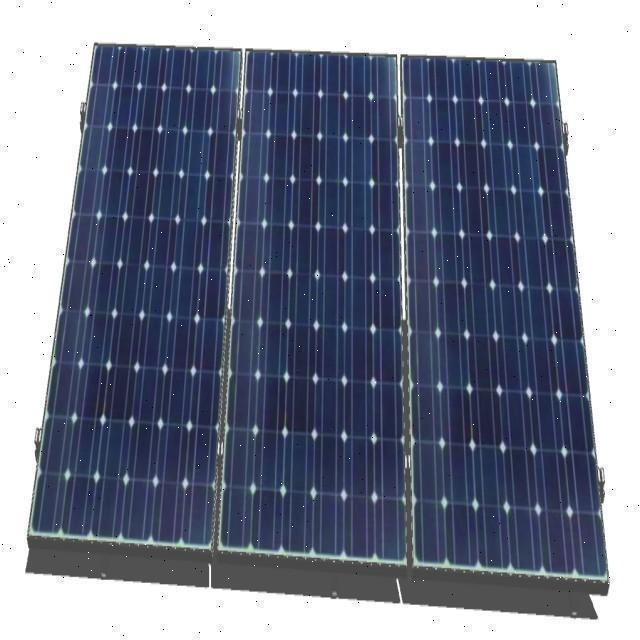Normal Solar Panel: (29, 46, 244, 546), (402, 57, 598, 598), (216, 52, 405, 578)
